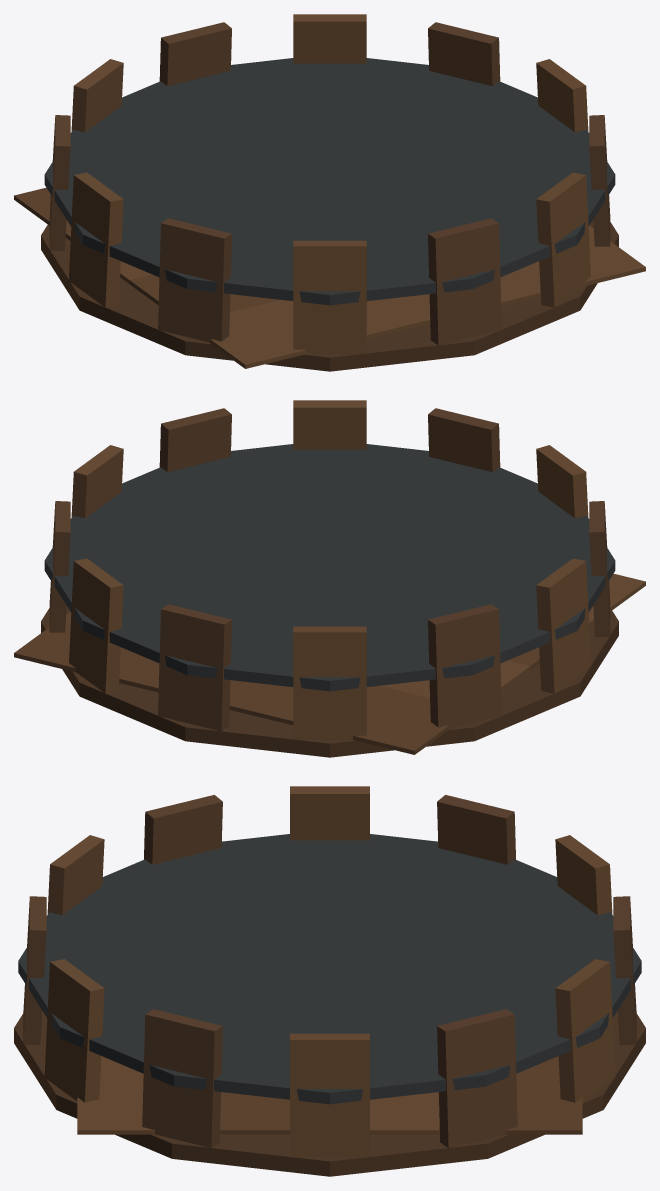
Rendered from prop_cart_pumpkin_slot.glb.
3 views of the same model, one above another, from view 1: azimuth 30°, elevation 25°; view 2: azimuth 150°, elevation 25°; view 3: azimuth 270°, elevation 25° (orthographic). The views are drawn at different scales.
Parts seen in each view (by area): view 1: Slot; view 2: Slot; view 3: Slot.
Boxes of the visible parts, left/top/right/bottom form: Slot: left=14, top=14, right=645, bottom=371; Slot: left=14, top=400, right=645, bottom=757; Slot: left=14, top=786, right=645, bottom=1176.
Size of the model in its own units: 1.5 by 0.3408 by 1.5.
